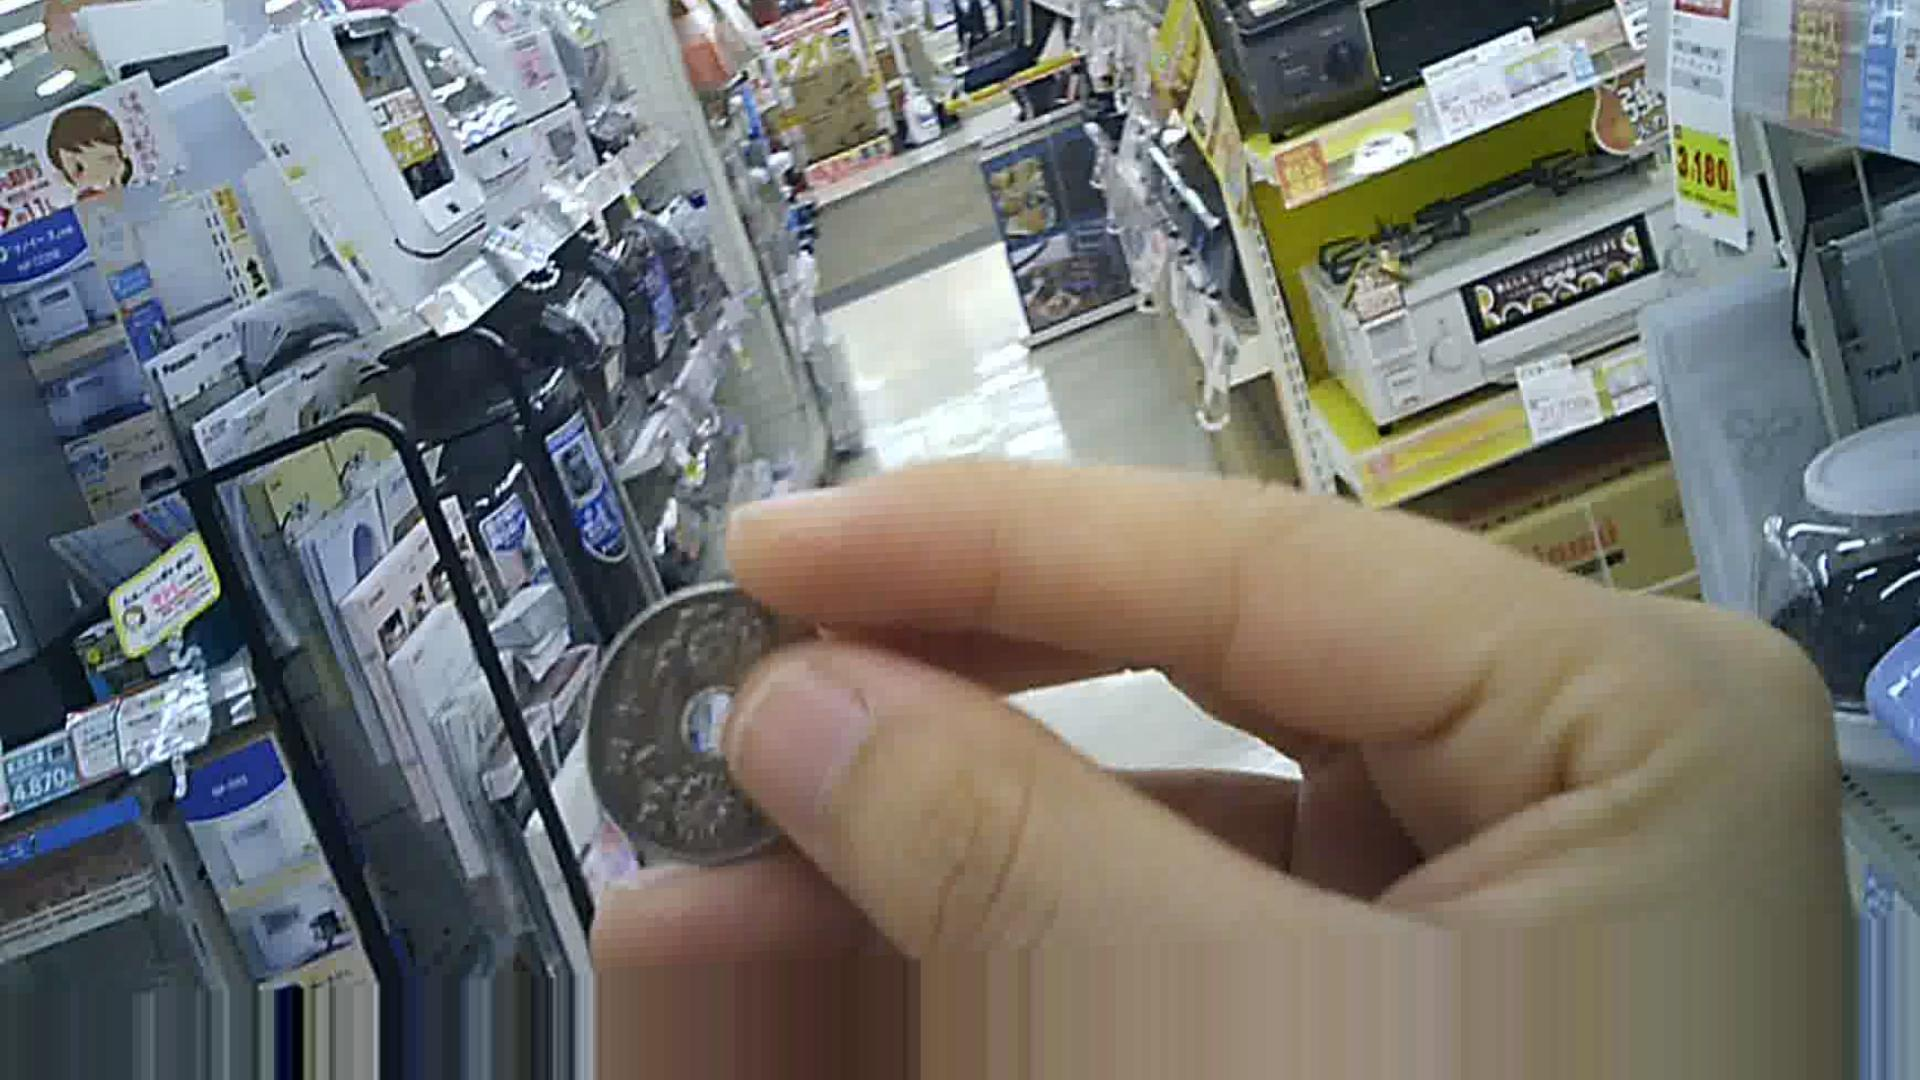50 Yen: (591, 583, 812, 866)
